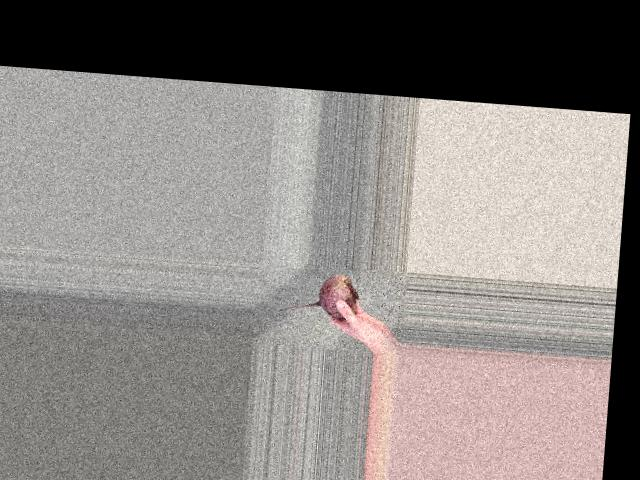beet: (279, 270, 359, 318)
